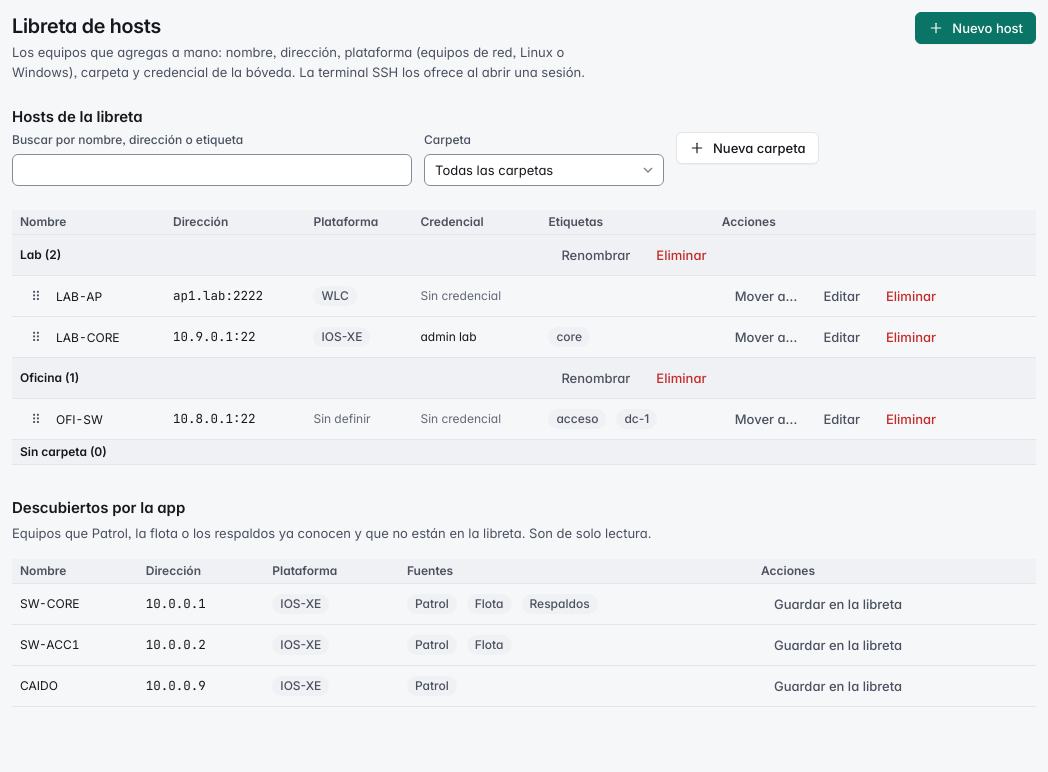
un equipo descubierto es de solo lectura y «Guardar en la libreta» rellena el formulario
This screenshot has width=1048, height=772.
Expected: the text "SW-ACC1" is shown, x1=12 y1=624 x2=138 y2=666
What coordinates should you click on to do the following:
click the button with aria-label "Guardar SW-ACC1 en la libreta"
I would click on:
 (838, 645)
Its box is x1=761 y1=629 x2=915 y2=661.
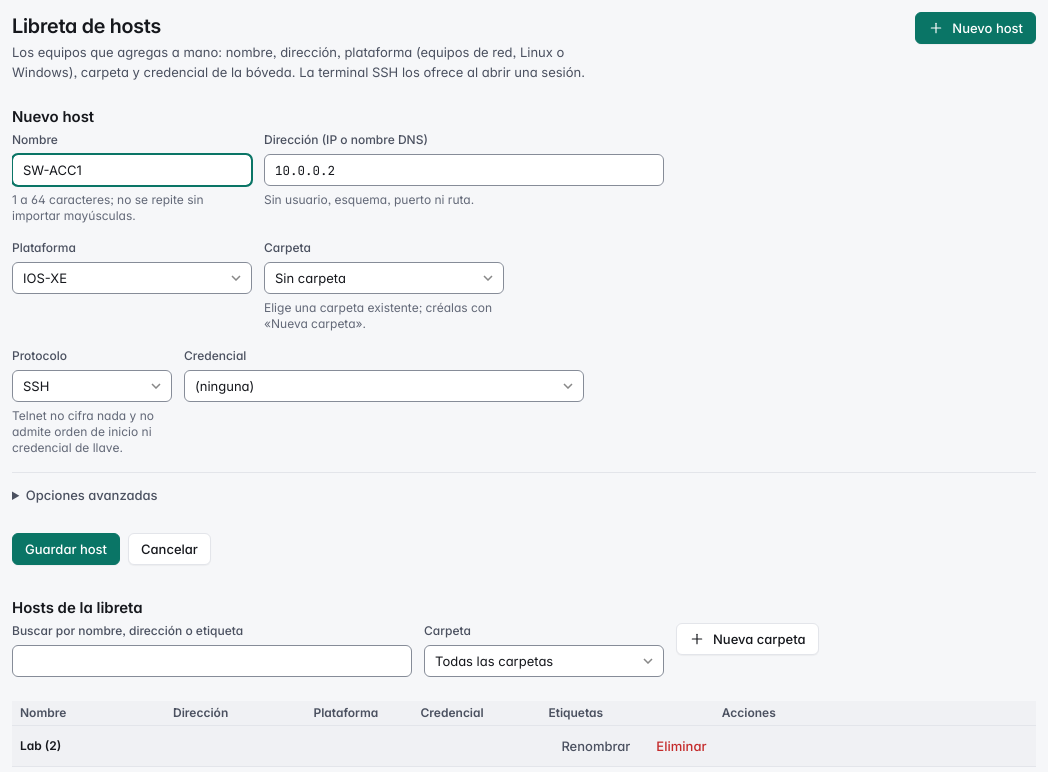
Now the field labelled "Nombre" holds "SW-ACC1", box x1=12 y1=154 x2=252 y2=186
Now the field labelled "Dirección (IP o nombre DNS)" holds "10.0.0.2", box x1=264 y1=154 x2=664 y2=186
Now the dropdown labelled "Plataforma" shows "IOS-XE", box x1=12 y1=262 x2=252 y2=294
